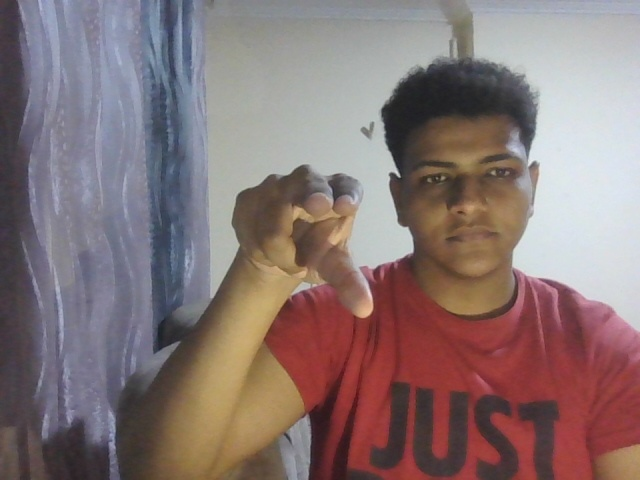no: (217, 153, 379, 343)
